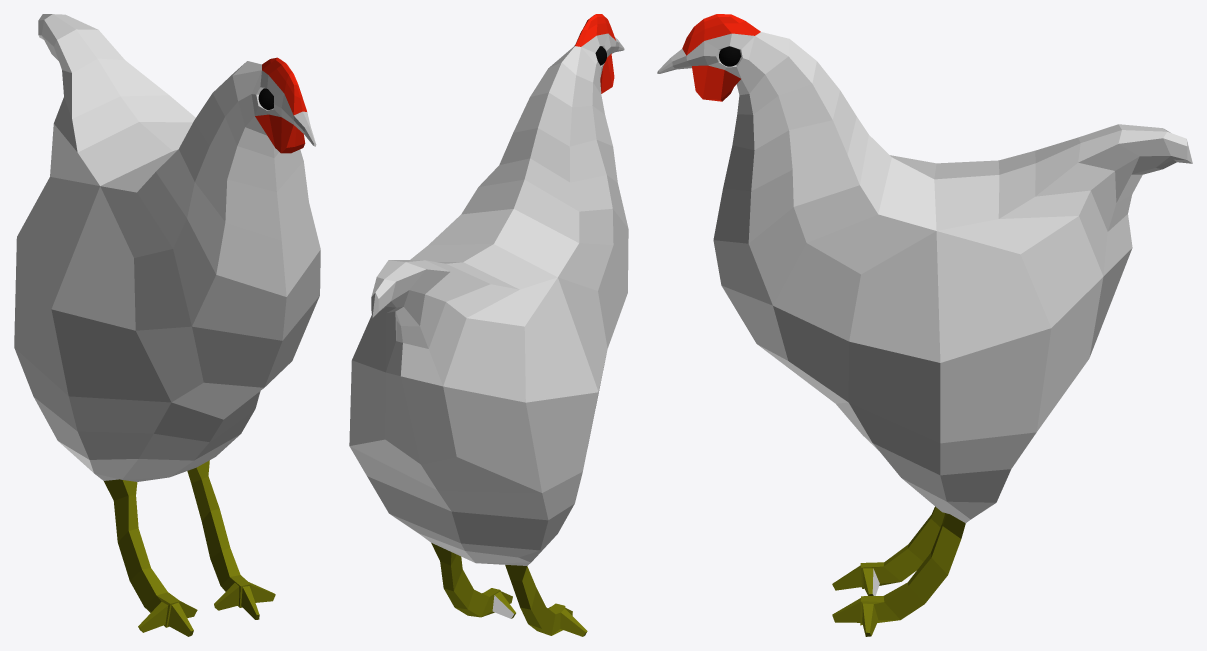
Rendered from chicken.glb.
3 renders of one model, left to right at view 1: azimuth 30°, elevation 25°; view 2: azimuth 150°, elevation 25°; view 3: azimuth 270°, elevation 25°, orthographic. The views are drawn at different scales.
Visible parts, largest first — view 1: Chicken; view 2: Chicken; view 3: Chicken.
Boxes of the visible parts, x1,y1,x2,y2 form: Chicken: [14, 14, 320, 636]; Chicken: [349, 14, 628, 636]; Chicken: [657, 14, 1192, 636].
Bounding box in the file's own units: 0.9474 × 2.34 × 1.92.
